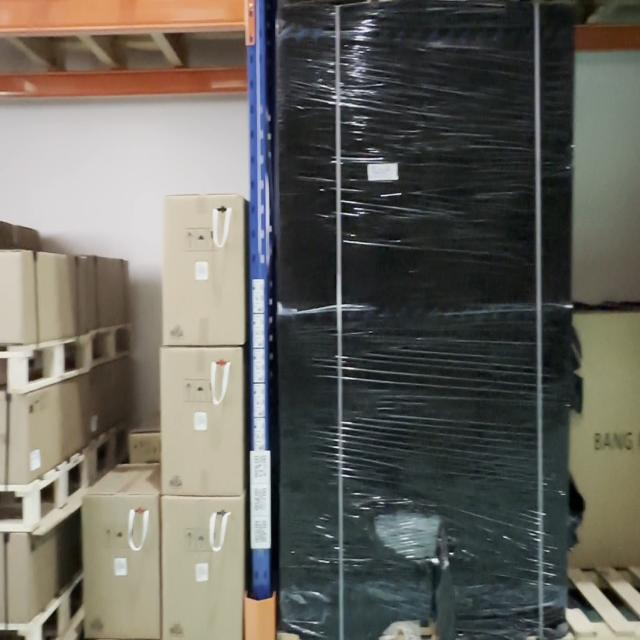box: (283, 9, 562, 627), (160, 349, 240, 497), (160, 494, 239, 640), (163, 196, 241, 343), (84, 498, 156, 639)
